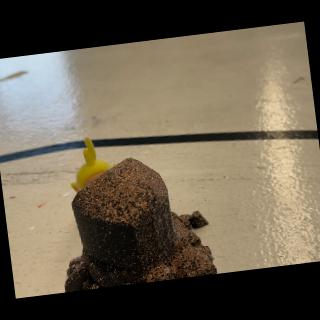teletubby: (71, 137, 116, 192)
